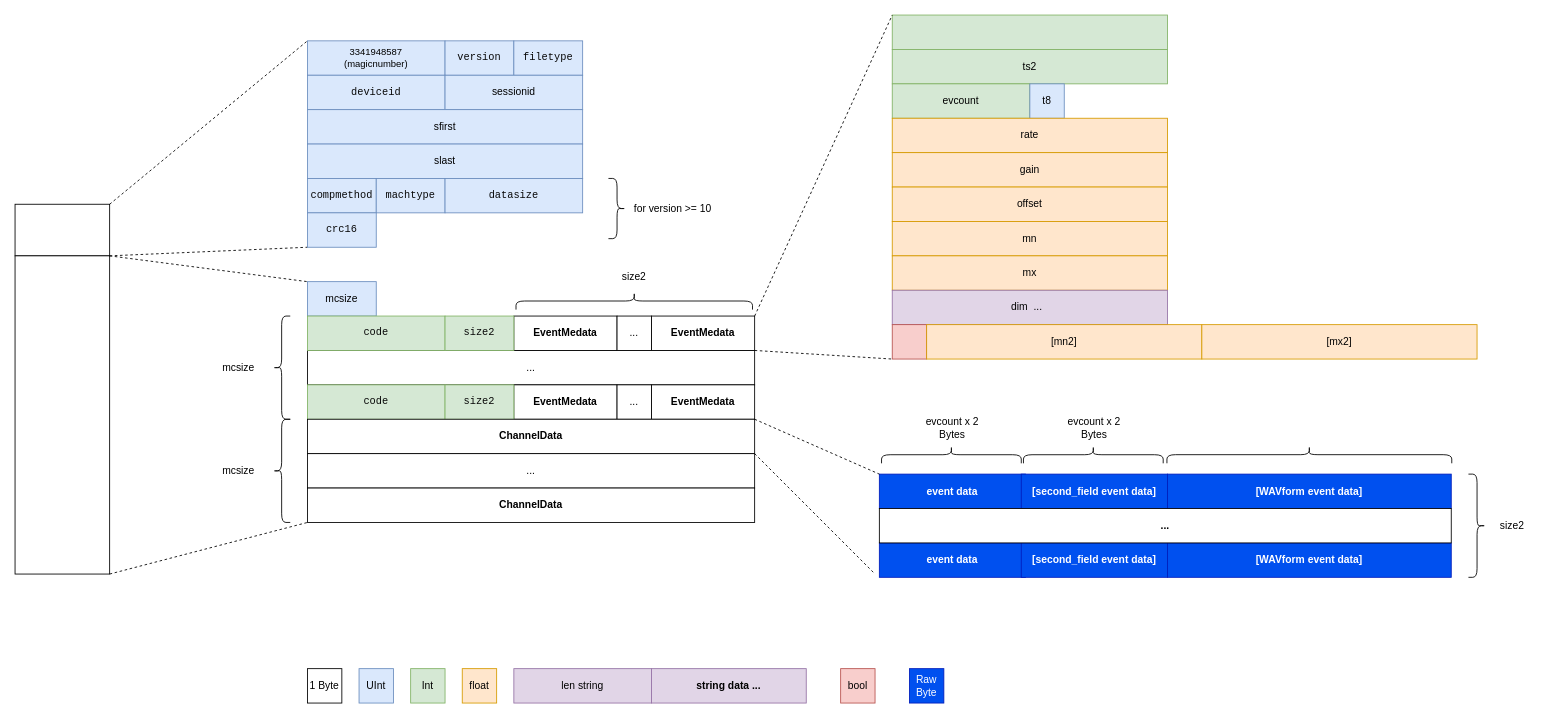
This 1553x718 diagram has some shape labels left out. The centre of each missing label's shape, as x and y in pixels:
Data: the point at 62,414
evcount x 4 Bytes: the point at 1309,454
Header: the point at 62,229
second_field: the point at 909,341
ts1: the point at 1029,31
